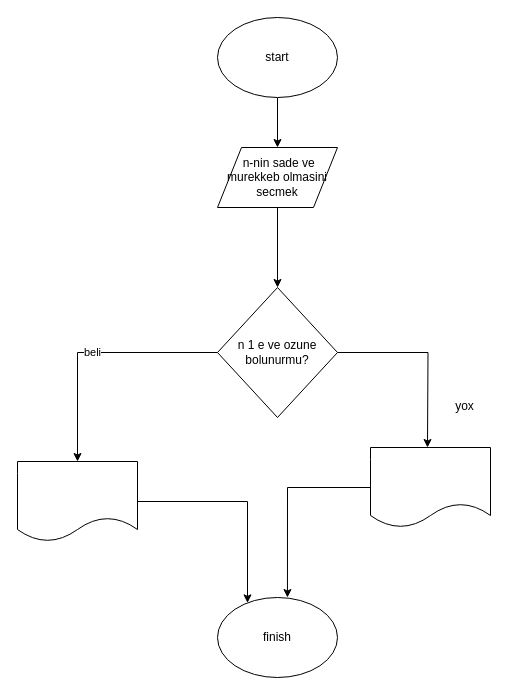
Some shapes in this 508 by 695 pixel diagram are drawn without their labels. The shapes that lost their labels are listed below. From the top down, each one's centre as x and y in pixels, then its label:
(x=77, y=501): eded sadedir
(x=430, y=487): eded murekkebdir
